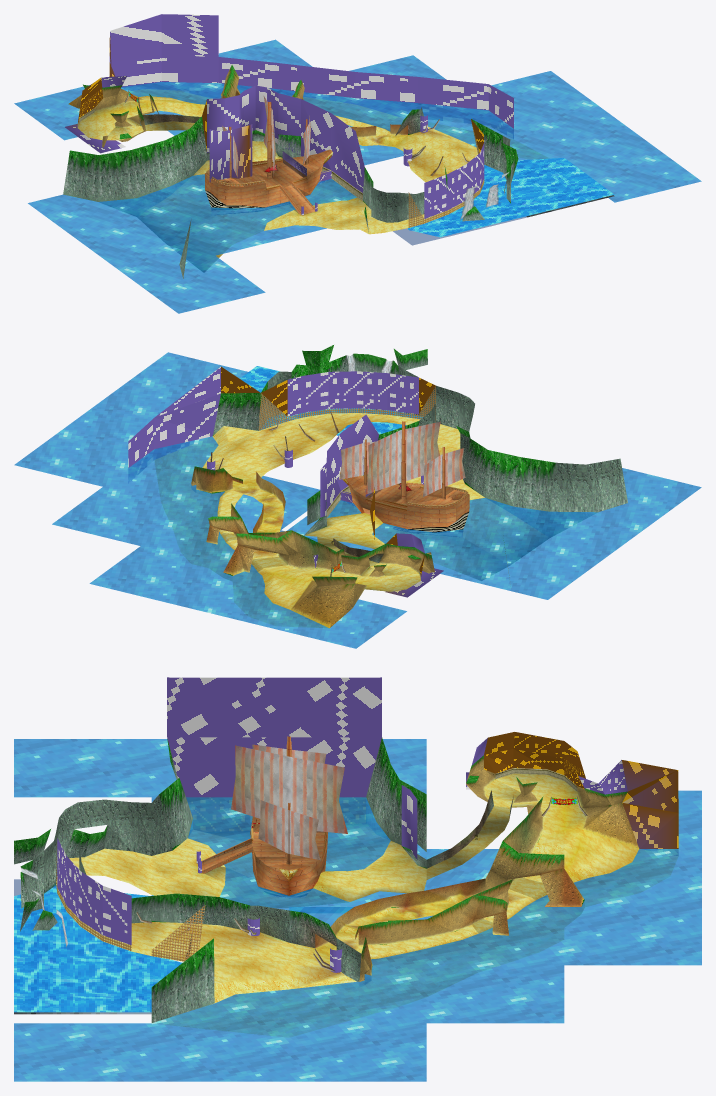
Rendered from CrescentIsland.glb.
3 views of the same model, one above another, from view 1: azimuth 30°, elevation 25°; view 2: azimuth 150°, elevation 25°; view 3: azimuth 270°, elevation 25° (orthographic). The views are drawn at different scales.
Visible parts, largest first — view 1: CrescentIsland_Alpha_3, CrescentIsland_Alpha_2, CrescentIsland_6, CrescentIsland_1, CrescentIsland_10, CrescentIsland_Alpha_34, CrescentIsland_15, CrescentIsland_0, CrescentIsland_Alpha_25, CrescentIsland_9, CrescentIsland_Alpha_20, CrescentIsland_14 (+3 smaller); view 2: CrescentIsland_Alpha_3, CrescentIsland_6, CrescentIsland_10, CrescentIsland_Alpha_2, CrescentIsland_9, CrescentIsland_1, CrescentIsland_0, CrescentIsland_14, CrescentIsland_Alpha_25, CrescentIsland_15, CrescentIsland_Alpha_20, CrescentIsland_Alpha_34 (+1 smaller); view 3: CrescentIsland_Alpha_3, CrescentIsland_6, CrescentIsland_Alpha_2, CrescentIsland_10, CrescentIsland_1, CrescentIsland_9, CrescentIsland_Alpha_34, CrescentIsland_14, CrescentIsland_0, CrescentIsland_Alpha_25, CrescentIsland_15, CrescentIsland_Alpha_20 (+1 smaller).
Boxes of the visible parts, left/top/right/bottom form: CrescentIsland_Alpha_3: left=14, top=39, right=701, bottom=313; CrescentIsland_Alpha_2: left=65, top=14, right=513, bottom=215; CrescentIsland_6: left=78, top=96, right=484, bottom=234; CrescentIsland_1: left=63, top=109, right=518, bottom=232; CrescentIsland_10: left=130, top=89, right=547, bottom=271; CrescentIsland_Alpha_34: left=408, top=158, right=614, bottom=237; CrescentIsland_15: left=204, top=102, right=331, bottom=214; CrescentIsland_0: left=100, top=107, right=510, bottom=278; CrescentIsland_Alpha_25: left=317, top=143, right=484, bottom=218; CrescentIsland_9: left=68, top=65, right=407, bottom=147; CrescentIsland_Alpha_20: left=206, top=123, right=484, bottom=227; CrescentIsland_14: left=222, top=96, right=310, bottom=177; CrescentIsland_Alpha_3: left=14, top=352, right=701, bottom=648; CrescentIsland_6: left=163, top=413, right=484, bottom=609; CrescentIsland_10: left=155, top=436, right=548, bottom=627; CrescentIsland_Alpha_2: left=128, top=366, right=443, bottom=597; CrescentIsland_9: left=191, top=466, right=434, bottom=628; CrescentIsland_1: left=213, top=345, right=555, bottom=584; CrescentIsland_0: left=260, top=366, right=627, bottom=562; CrescentIsland_14: left=339, top=421, right=465, bottom=496; CrescentIsland_Alpha_25: left=302, top=371, right=418, bottom=506; CrescentIsland_15: left=346, top=421, right=469, bottom=529; CrescentIsland_Alpha_20: left=258, top=386, right=468, bottom=507; CrescentIsland_Alpha_34: left=239, top=366, right=422, bottom=435; CrescentIsland_Alpha_3: left=14, top=739, right=701, bottom=1081; CrescentIsland_6: left=56, top=773, right=638, bottom=1005; CrescentIsland_Alpha_2: left=167, top=677, right=678, bottom=972; CrescentIsland_10: left=165, top=823, right=677, bottom=1036; CrescentIsland_1: left=14, top=737, right=478, bottom=1022; CrescentIsland_9: left=315, top=755, right=639, bottom=986; CrescentIsland_Alpha_34: left=14, top=885, right=182, bottom=1012; CrescentIsland_14: left=231, top=744, right=347, bottom=860; CrescentIsland_0: left=29, top=790, right=513, bottom=981; CrescentIsland_Alpha_25: left=57, top=838, right=131, bottom=945; CrescentIsland_15: left=202, top=736, right=327, bottom=895; CrescentIsland_Alpha_20: left=56, top=818, right=255, bottom=961.
Size of the model in its own units: 1913 by 411 by 1594.
39 materials, 39 textured.
